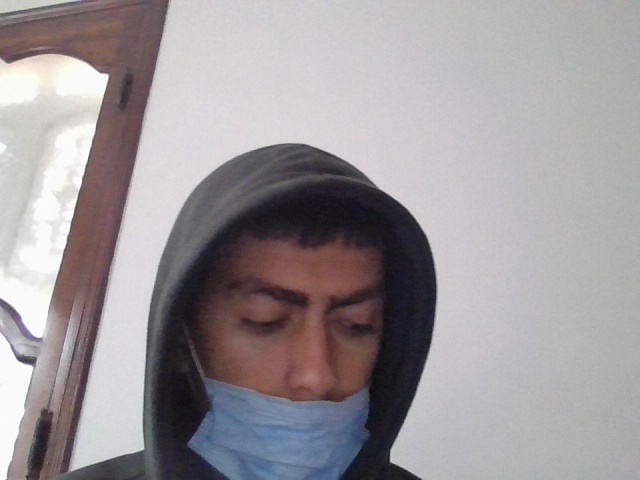mask_weared_incorrect: (171, 198, 401, 480)
